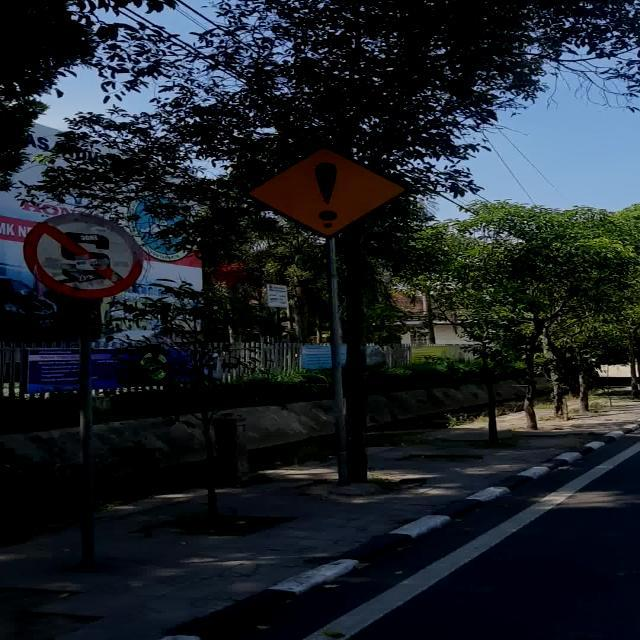Hati-Hati: (244, 144, 407, 238)
